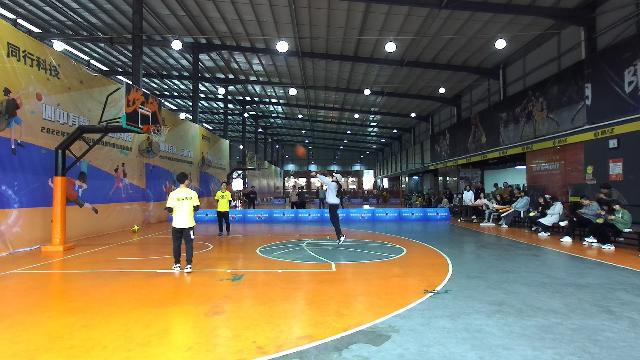ball: (296, 146, 306, 158), (130, 224, 138, 232)
basket: (150, 124, 170, 140)
